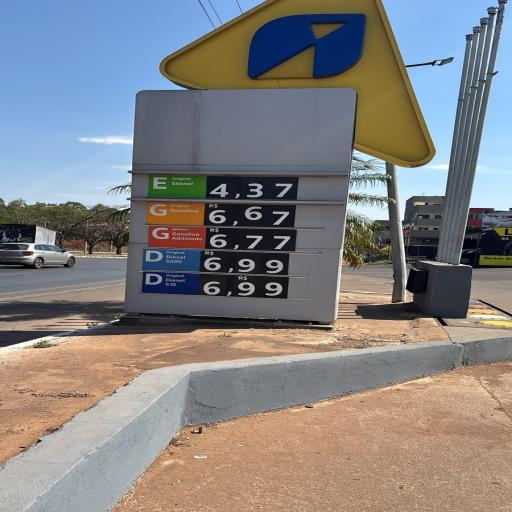ETANOL: (144, 174, 209, 198)
GASOLINA AD: (147, 225, 205, 247)
GASOLINA C: (144, 202, 205, 225)
S10: (143, 272, 196, 292)
S500: (142, 250, 200, 270)
placa: (131, 170, 342, 312)
preco: (198, 273, 288, 300), (208, 205, 295, 228), (199, 254, 288, 276), (209, 177, 295, 199), (208, 229, 297, 249)
